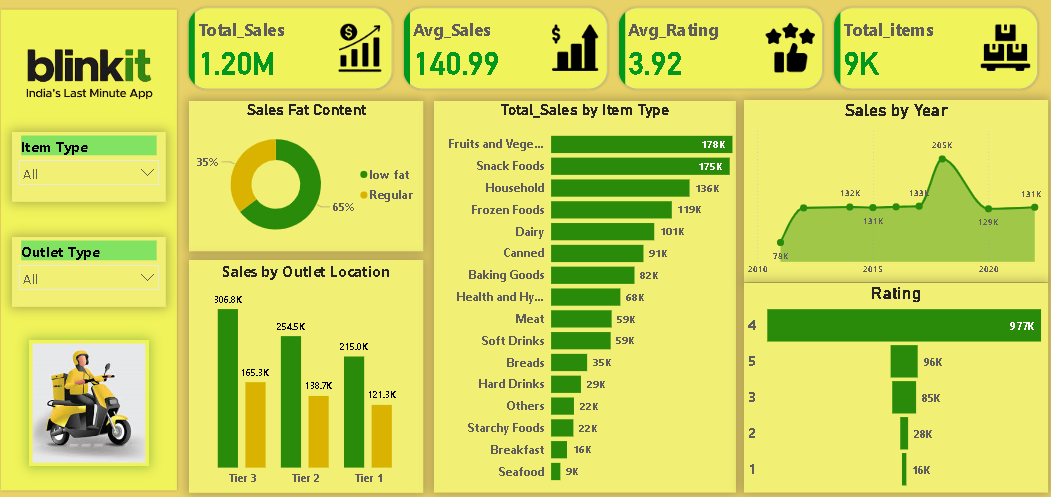

The dashboard page shown, as its layout file describes it:
{"tool":"powerbi","page":{"name":"Page 1","canvas":[1500,720],"ordinal":0},"visuals":[{"type":"shape","box":[0,18.4,257.5,689],"z":0},{"type":"image","box":[10,0,239.1,227.4],"z":1000},{"type":"cardVisual","fields":{"Data":["BlinkIT Grocery Data.Total_Sales","BlinkIT Grocery Data.Average_Sales","BlinkIT Grocery Data.Average_Rating","BlinkIT Grocery Data.No_of_items"]},"box":[257.5,6.7,1230.8,140.5],"z":2000},{"type":"donutChart","title":"Sales Fat Content","fields":{"Category":["BlinkIT Grocery Data.Item Fat Content"],"Y":["BlinkIT Grocery Data.Total_Sales"]},"box":[271.1,151.3,332.5,212.6],"z":2001},{"type":"slicer","fields":{"Values":["BlinkIT Grocery Data.Item Type"]},"box":[19.8,195.6,218.3,99.2],"z":2002},{"type":"clusteredColumnChart","title":"Sales by Outlet Location","fields":{"Category":["BlinkIT Grocery Data.Outlet Location Type"],"Y":["BlinkIT Grocery Data.Total_Sales"],"Series":["BlinkIT Grocery Data.Item Fat Content"]},"box":[271.1,376.7,332.5,329.6],"z":2003},{"type":"barChart","fields":{"Category":["BlinkIT Grocery Data.Item Type"],"Y":["BlinkIT Grocery Data.Total_Sales"]},"box":[617.9,151.3,428.1,555.1],"z":2004},{"type":"lineChart","title":"Sales by Year","fields":{"Category":["BlinkIT Grocery Data.Outlet Establishment Year"],"Y":["BlinkIT Grocery Data.Total_Sales"]},"box":[1056.9,150.5,431.4,257.5],"z":2005},{"type":"funnel","title":"Rating","fields":{"Y":["BlinkIT Grocery Data.Total_Sales"],"Category":["BlinkIT Grocery Data.Rating"]},"box":[1057,409,431,297],"z":2006},{"type":"slicer","fields":{"Values":["BlinkIT Grocery Data.Outlet Type"]},"box":[19.8,344.4,218.3,99.2],"z":2007},{"type":"image","box":[43.9,490.4,170.1,178.6],"z":2008}]}

Visuals, with their boxes in screenshot pixels (x1, y1, x2, y2), scaled from the page's 1500x720 canvas onto the 1051x497 screenshot:
shape: rect(0, 13, 180, 488)
image: rect(7, 0, 175, 157)
cardVisual - BlinkIT Grocery Data.Total_Sales x BlinkIT Grocery Data.Average_Sales: rect(180, 5, 1043, 102)
"Sales Fat Content" donutChart: rect(190, 104, 423, 251)
slicer - BlinkIT Grocery Data.Item Type: rect(14, 135, 167, 203)
"Sales by Outlet Location" clusteredColumnChart: rect(190, 260, 423, 488)
barChart - BlinkIT Grocery Data.Item Type x BlinkIT Grocery Data.Total_Sales: rect(433, 104, 733, 488)
"Sales by Year" lineChart: rect(741, 104, 1043, 282)
"Rating" funnel: rect(741, 282, 1043, 487)
slicer - BlinkIT Grocery Data.Outlet Type: rect(14, 238, 167, 306)
image: rect(31, 339, 150, 462)
